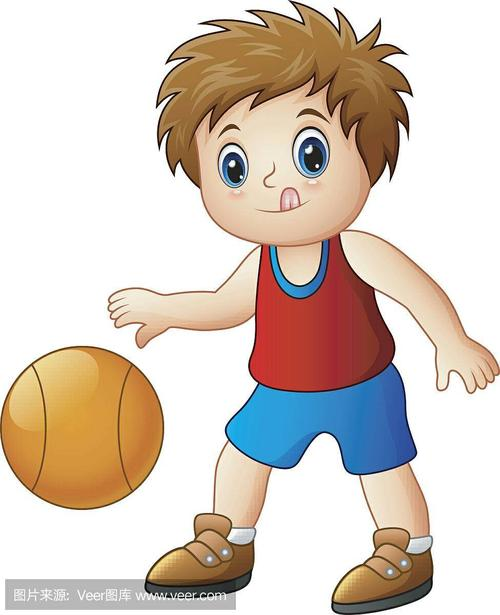ball: (2, 347, 166, 511)
